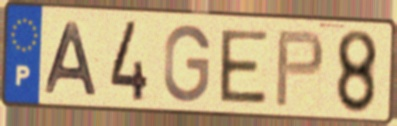4: (108, 18, 150, 104)
8: (335, 27, 379, 116)
A: (43, 20, 101, 99)
E: (217, 27, 271, 107)
G: (161, 22, 214, 106)
P: (272, 27, 327, 109)
